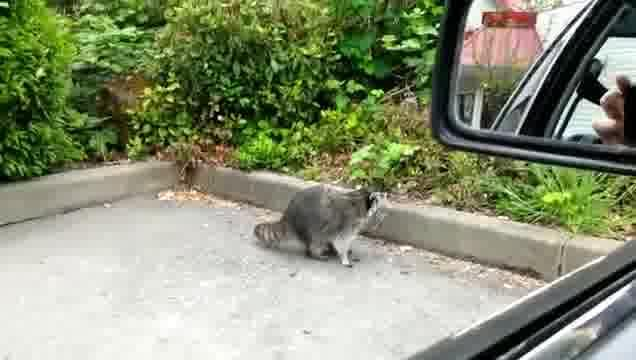raccoon: (251, 181, 392, 273)
